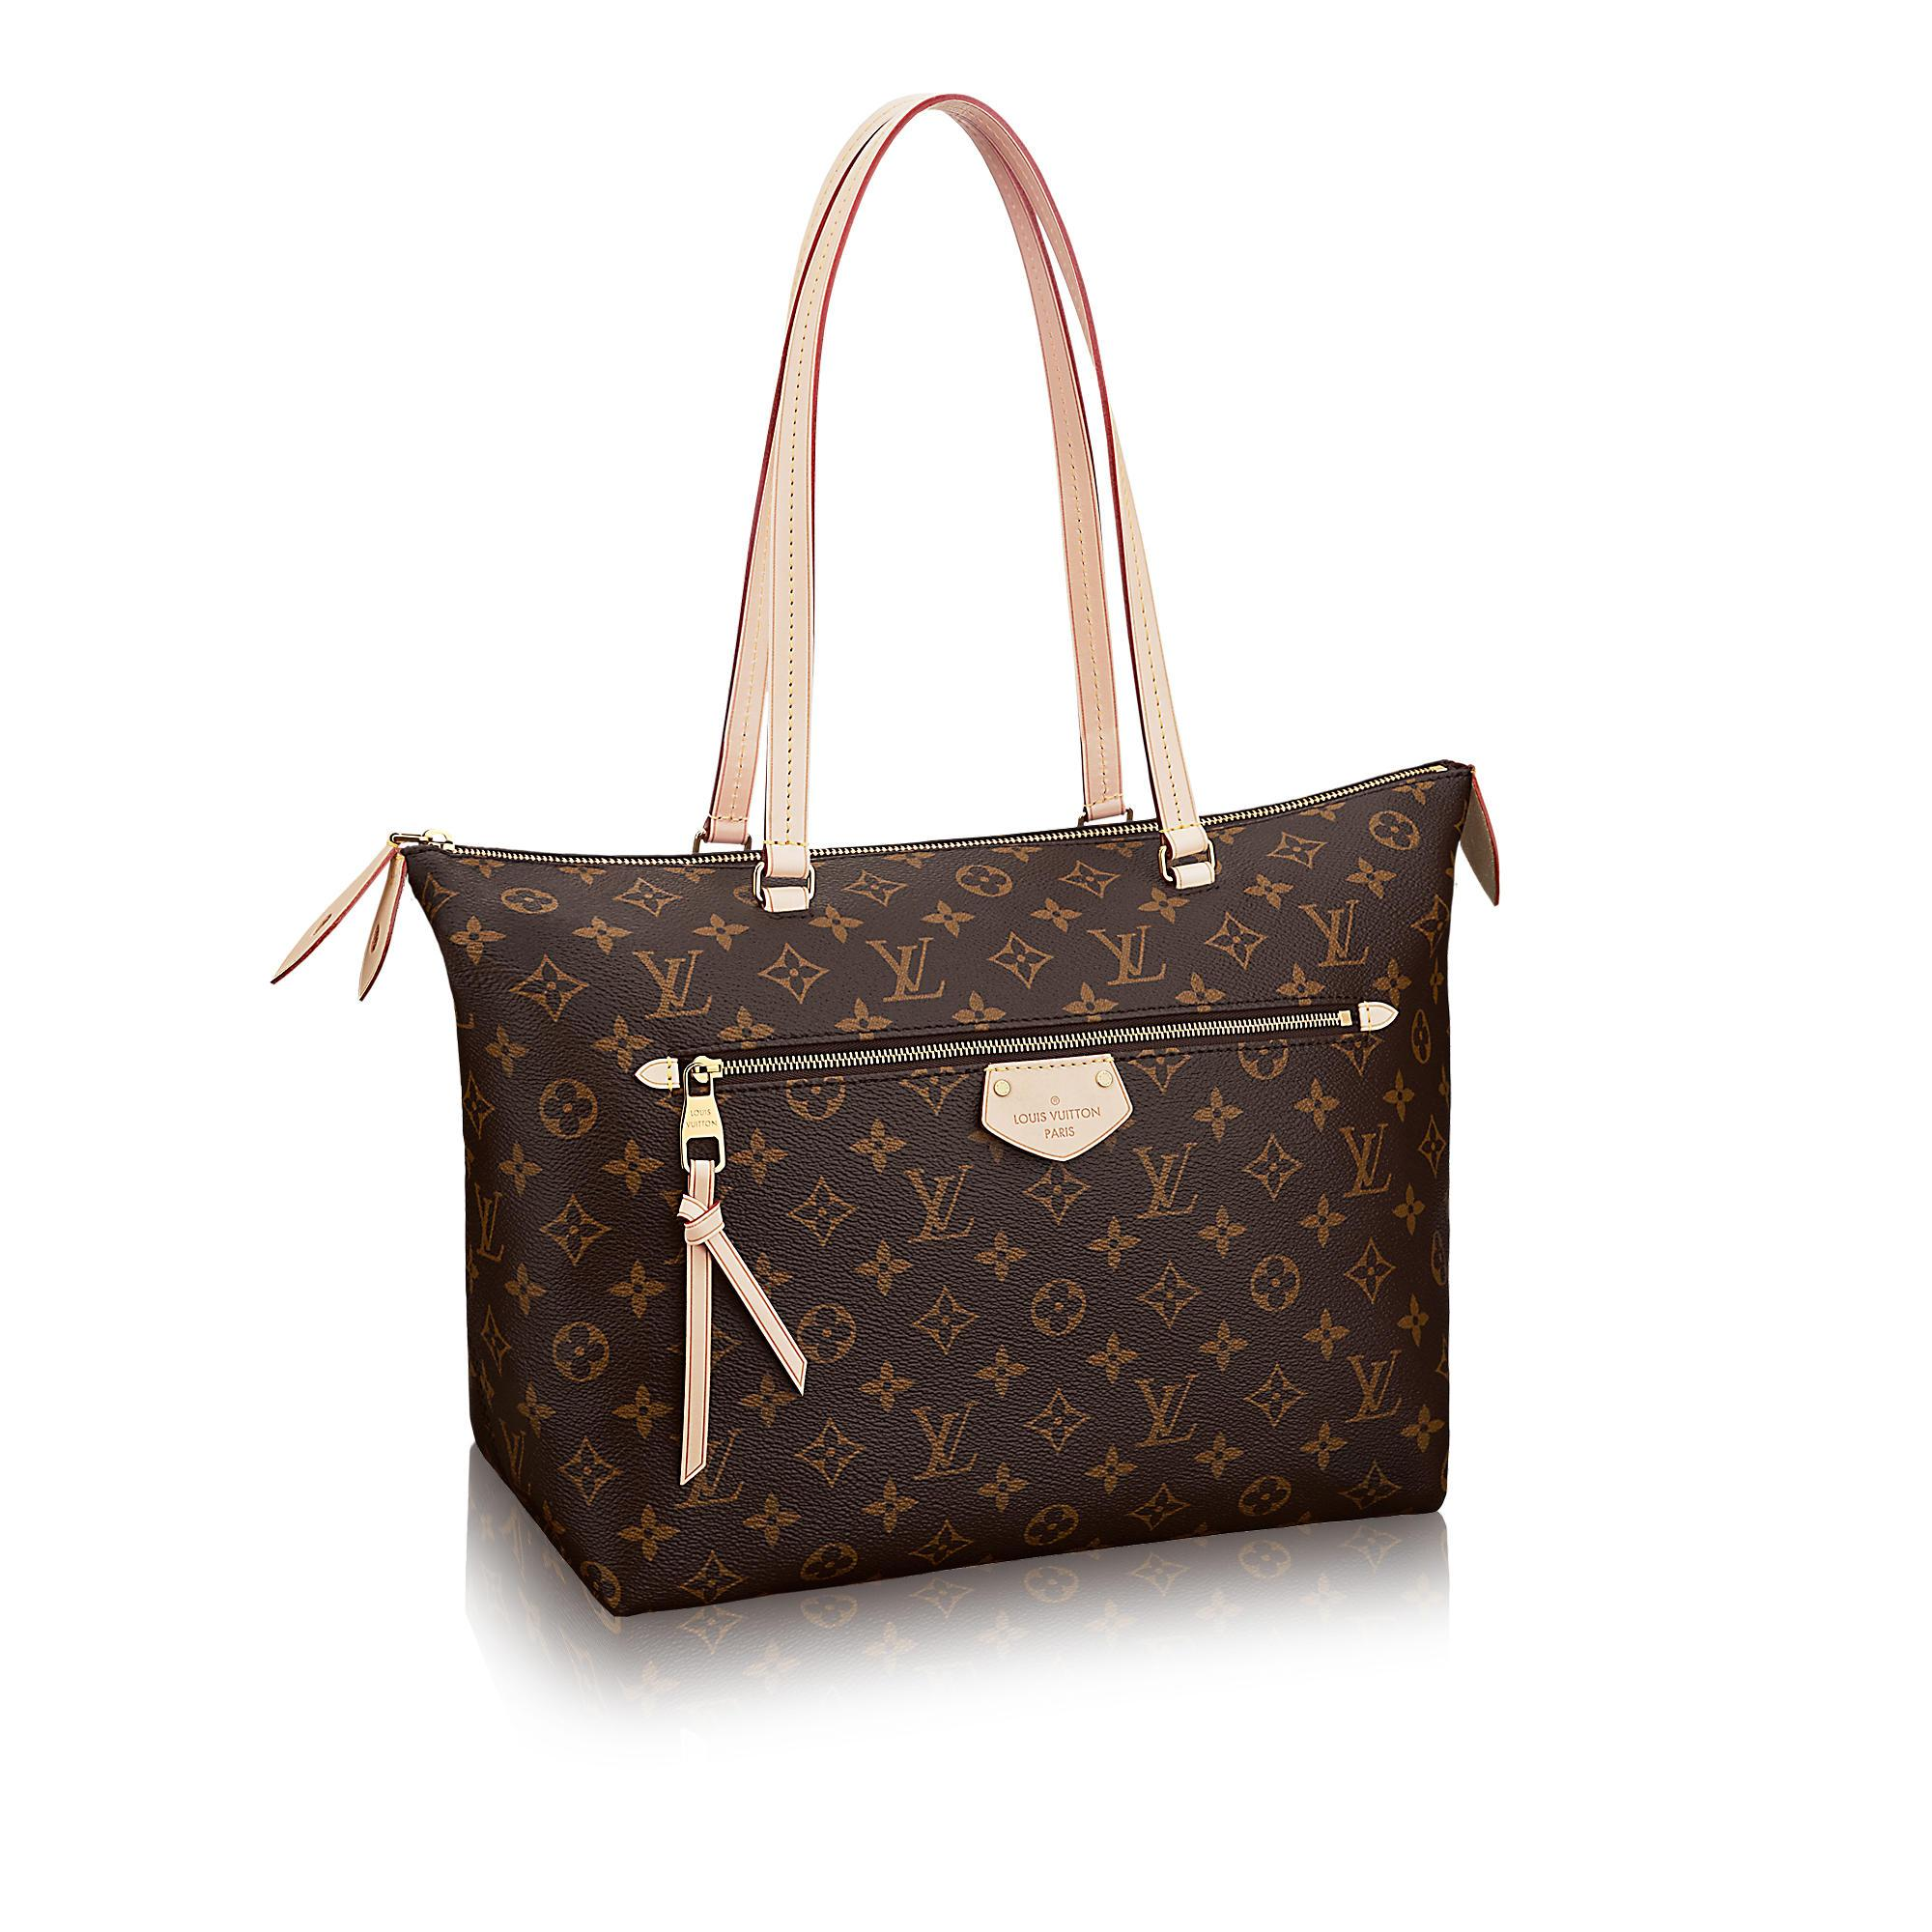LOUIS-VUITTON: (662, 1428, 747, 1511), (897, 1162, 982, 1244), (909, 1394, 980, 1486), (1127, 1139, 1201, 1224), (628, 945, 713, 1017), (1122, 1375, 1200, 1453), (1290, 897, 1373, 970), (1077, 920, 1171, 984), (867, 931, 943, 1005), (1332, 1122, 1398, 1201), (1336, 1348, 1403, 1424), (460, 1178, 508, 1265), (488, 1412, 529, 1500)
